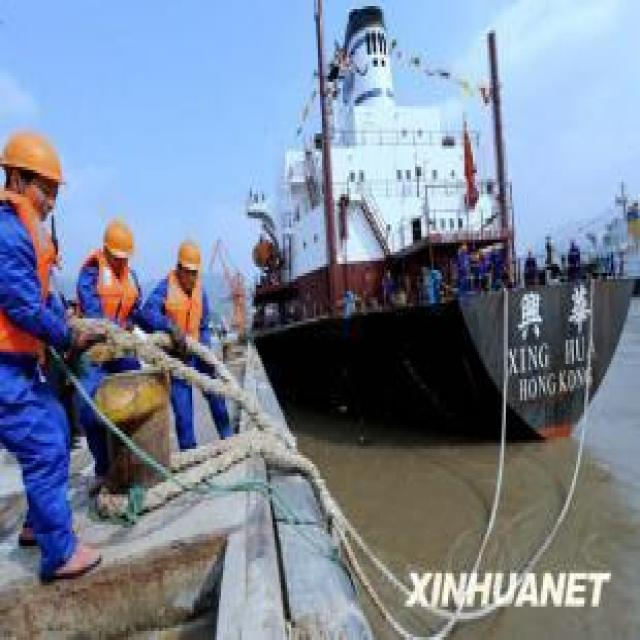boots: (48, 544, 103, 580), (18, 523, 38, 545)
hard-hat: (1, 132, 61, 184), (102, 218, 134, 258), (176, 242, 200, 270)
person: (0, 131, 104, 584), (74, 218, 185, 494), (139, 239, 233, 449)
ppe-suit: (0, 194, 88, 578), (140, 271, 232, 449), (78, 264, 145, 464)
vest: (2, 194, 62, 353), (157, 276, 210, 356), (90, 263, 141, 343)
